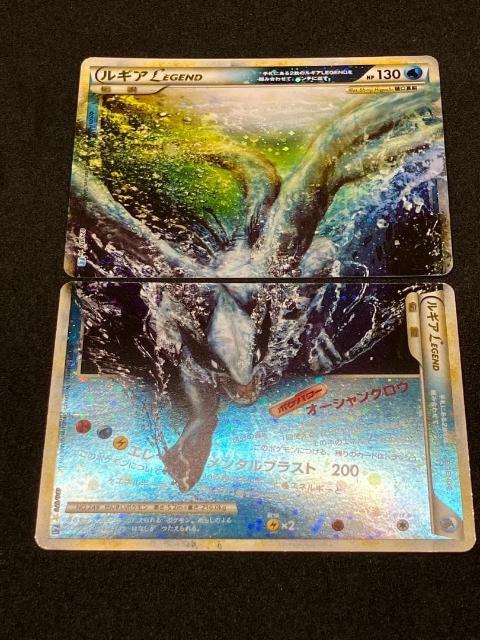Card: (30, 277, 479, 555), (59, 51, 457, 280)
Name: (420, 293, 450, 376), (93, 65, 210, 86)
